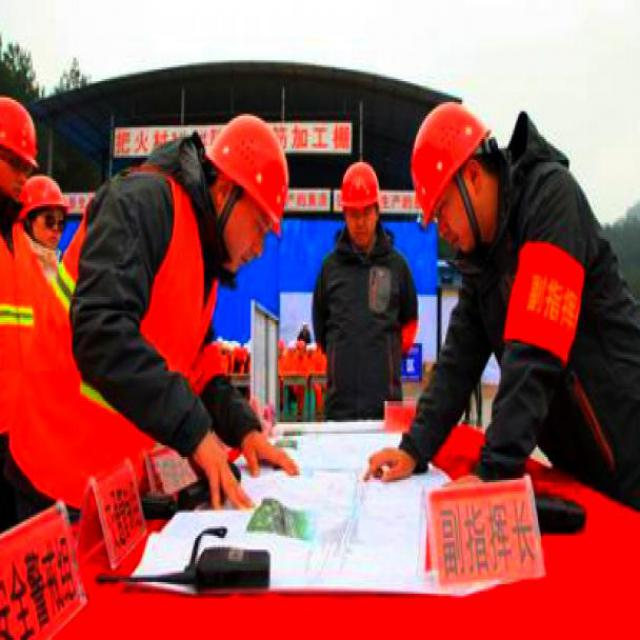helmet: (201, 93, 290, 281), (402, 109, 505, 267), (334, 147, 380, 246), (0, 81, 33, 218), (21, 169, 68, 257)
vest: (17, 169, 204, 485)
